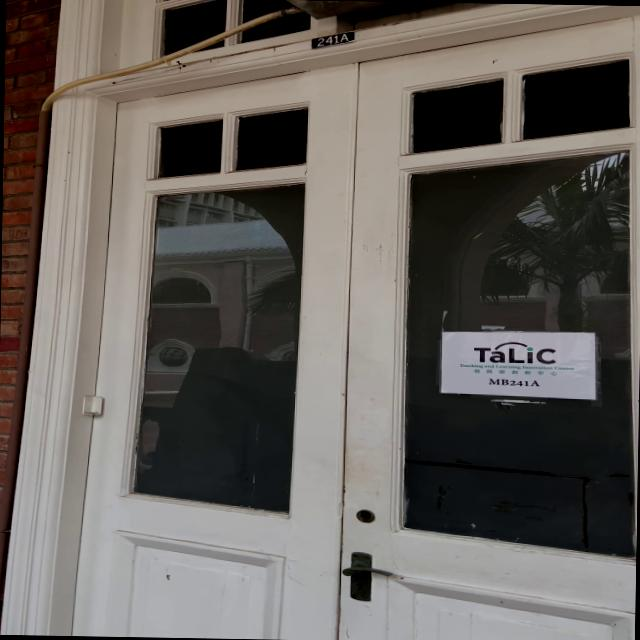room241a: (309, 28, 354, 50)
